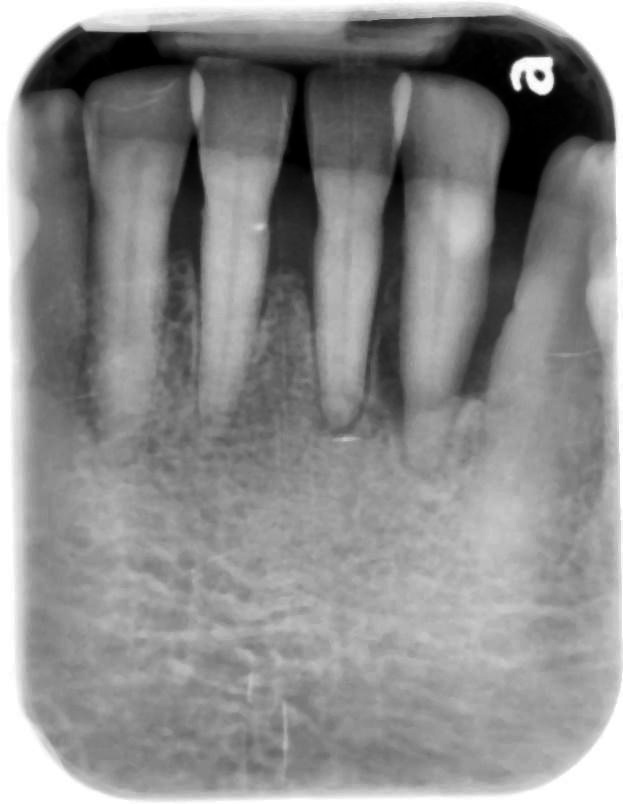Individual Tooth: (474, 138, 616, 578), (392, 74, 507, 470), (83, 66, 193, 476), (190, 58, 295, 426), (306, 69, 410, 429), (20, 90, 88, 469)
